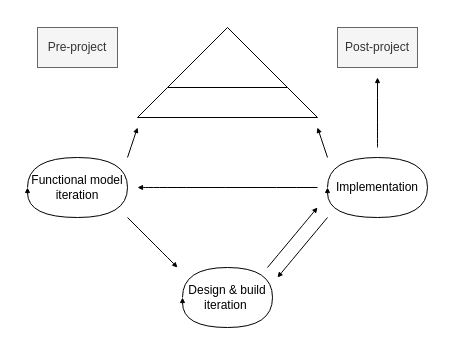
Image size: 454x354. Some labels were removed from this diagram. Here are the shapes that lost their labels. From the top down, the box of each, then its label:
(166, 26, 288, 88): Feasibility
(136, 86, 318, 118): Business study
